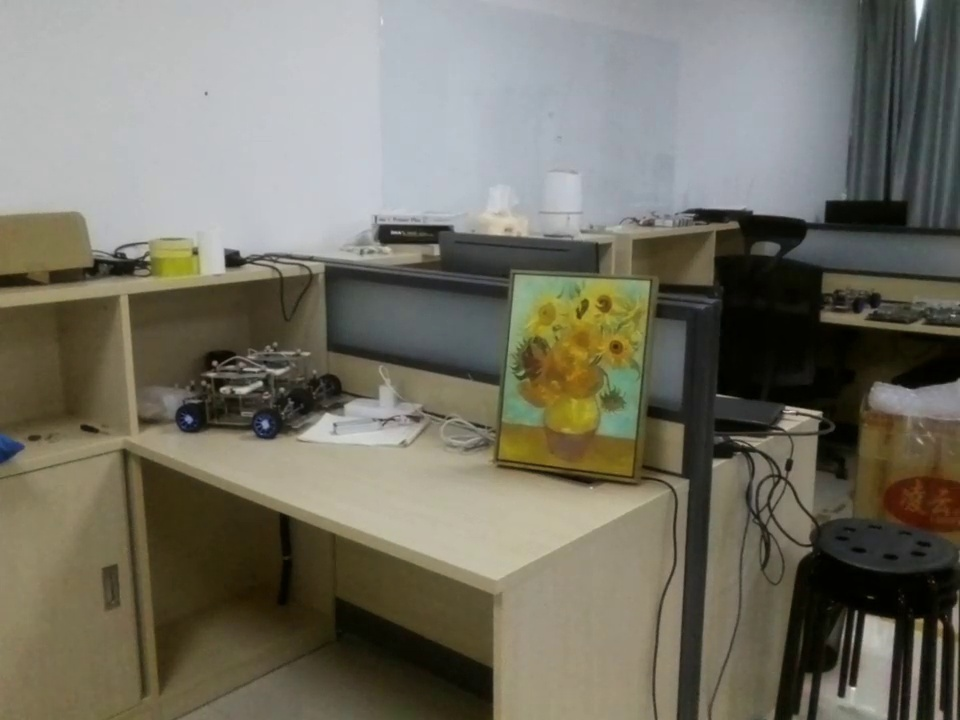painting: (496, 269, 657, 481)
